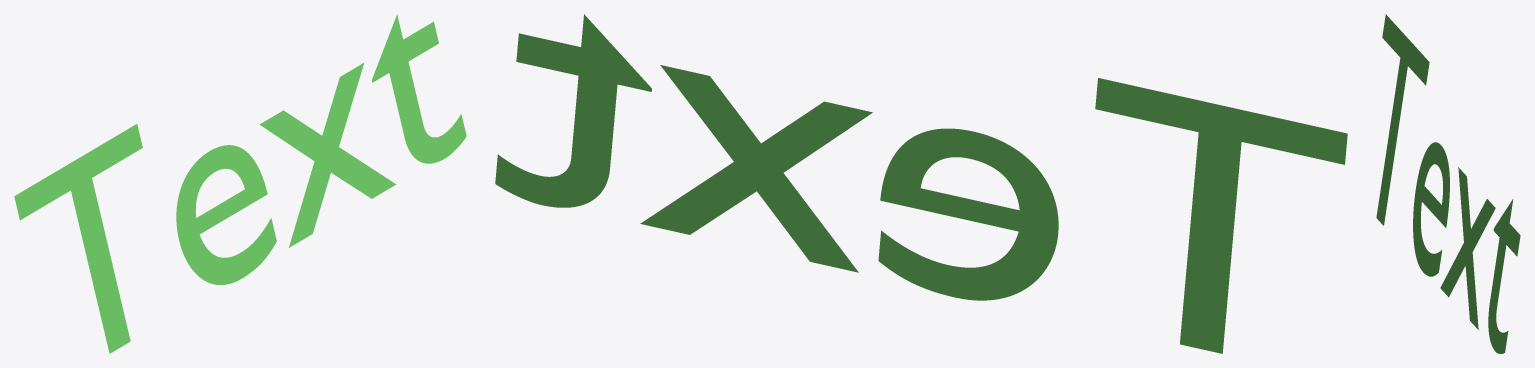
3 renders of one model, left to right at view 1: azimuth 30°, elevation 25°; view 2: azimuth 150°, elevation 25°; view 3: azimuth 270°, elevation 25°, orthographic. The views are drawn at different scales.
Visible parts, largest first — view 1: Text; view 2: Text; view 3: Text.
Part boxes in pixels (bbox=[...]): Text: bbox=[14, 14, 466, 353]; Text: bbox=[495, 14, 1347, 353]; Text: bbox=[1376, 14, 1520, 353].
Size of the model in its own units: 3 by 1.1 by 0.7832.
